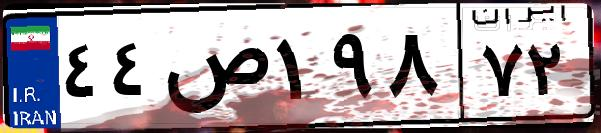1: (270, 28, 330, 110)
2: (525, 38, 570, 115)
4: (57, 26, 110, 100), (110, 28, 158, 98)
7: (475, 38, 525, 113)
8: (385, 28, 445, 110)
9: (330, 28, 385, 110)
ص: (158, 20, 270, 120)
